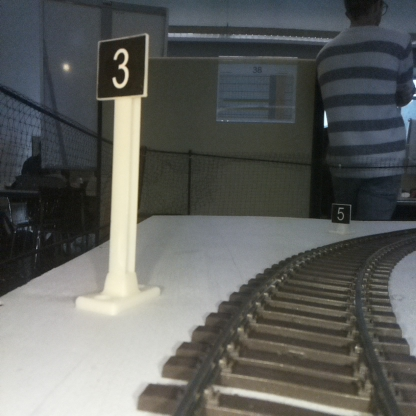black-info-3: (98, 33, 145, 310)
white-stop-5: (332, 204, 350, 233)
